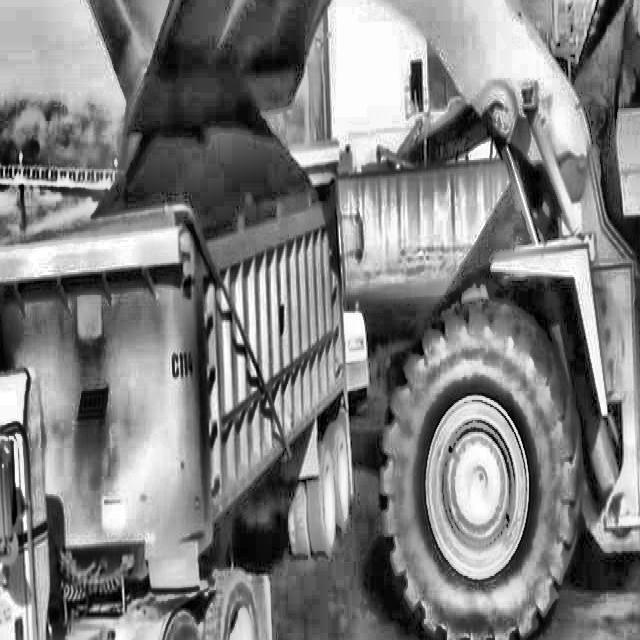buldozerpayloadergrader: (22, 0, 640, 640)
dump_truck: (0, 199, 367, 640)
